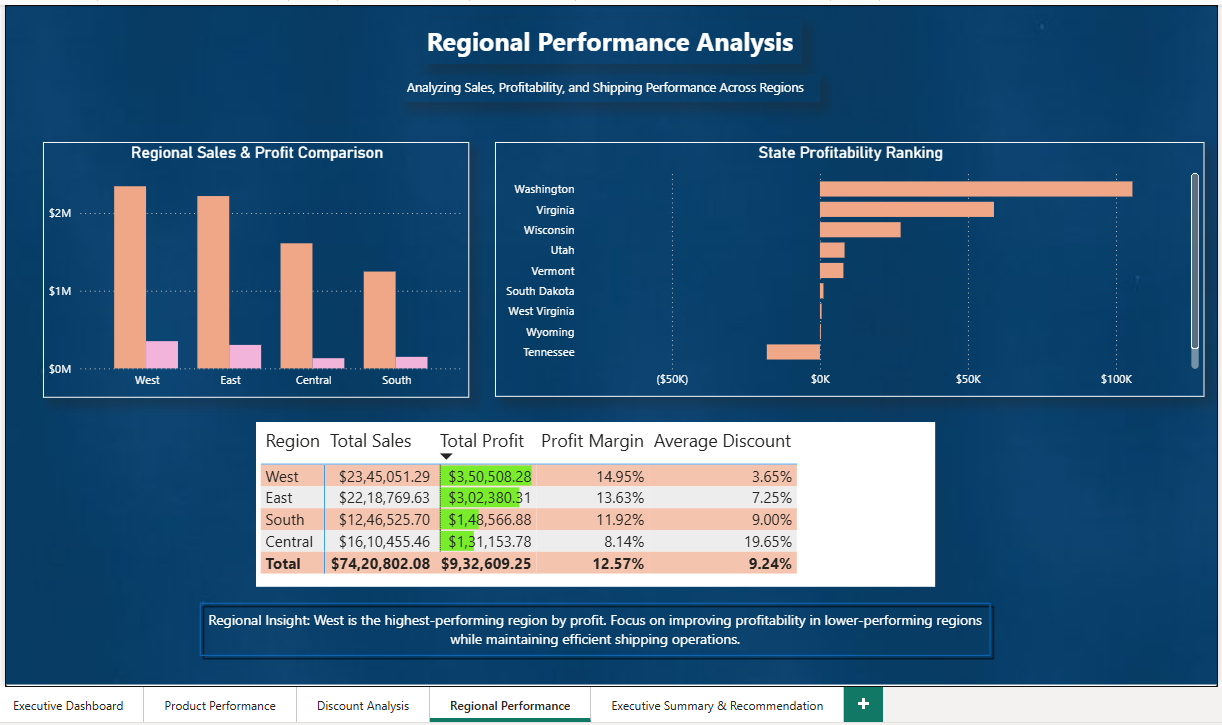

What the dashboard file says about the page in this screenshot:
{"tool":"powerbi","page":{"name":"Regional Performance","canvas":[1280,720],"ordinal":3},"visuals":[{"type":"textbox","box":[439.7,14.8,401,46.7],"z":0},{"type":"textbox","box":[419.2,72.9,440.9,29.6],"z":1000},{"type":"clusteredColumnChart","title":"Regional Sales & Profit Comparison","fields":{"Category":["Orders.Region"],"Y":["Orders.Total Sales","Orders.Total Profit"]},"box":[39.9,144.7,450,270],"z":2000},{"type":"clusteredBarChart","title":"State Profitability Ranking","fields":{"Category":["Orders.State"],"Y":["Orders.Total Profit"]},"box":[517.4,144.2,749.1,269.5],"z":3000},{"type":"pivotTable","fields":{"Rows":["Orders.Region"],"Values":["Orders.Total Sales","Orders.Total Profit","Orders.Profit Margin","Orders.Average Discount"]},"box":[265.4,440.6,716.8,173.8],"z":4000},{"type":"shape","box":[200.8,626.5,844.8,66],"z":5000}]}

Visuals, with their boxes on the page's 1280x720 design canvas (x1, y1, x2, y2). These are canvas units, not pixel positions in the 1222x725 screenshot, which may show the page scaled, cropped or inside an application window:
textbox: (440, 15, 841, 62)
textbox: (419, 73, 860, 102)
"Regional Sales & Profit Comparison" clusteredColumnChart: (40, 145, 490, 415)
"State Profitability Ranking" clusteredBarChart: (517, 144, 1266, 414)
pivotTable - Orders.Region x Orders.Total Sales: (265, 441, 982, 614)
shape: (201, 626, 1046, 692)
